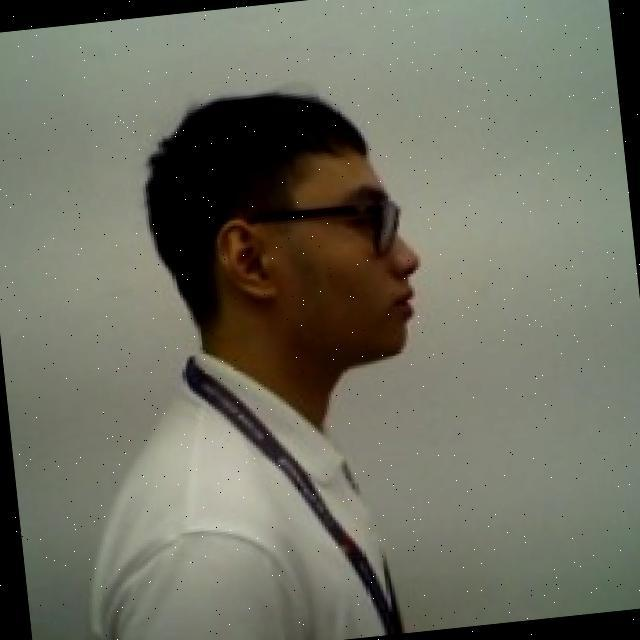no_gloves: (128, 66, 390, 230)
no_hairnet: (194, 200, 436, 387)
